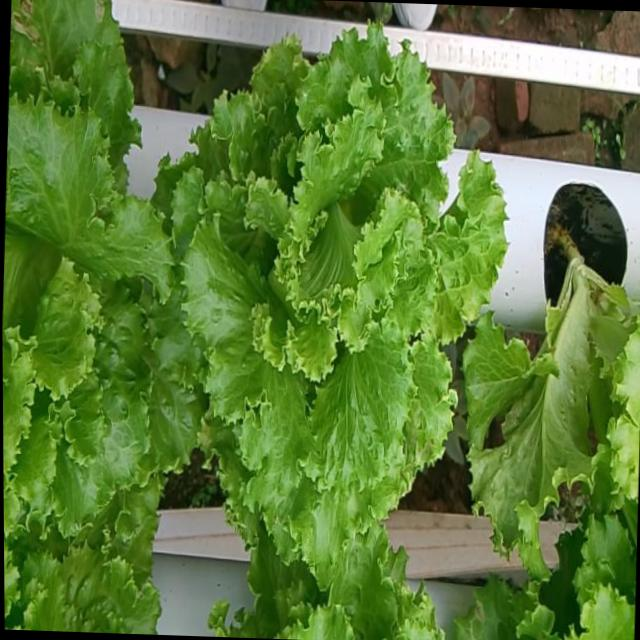Mature: (171, 22, 505, 559), (2, 86, 200, 530)
